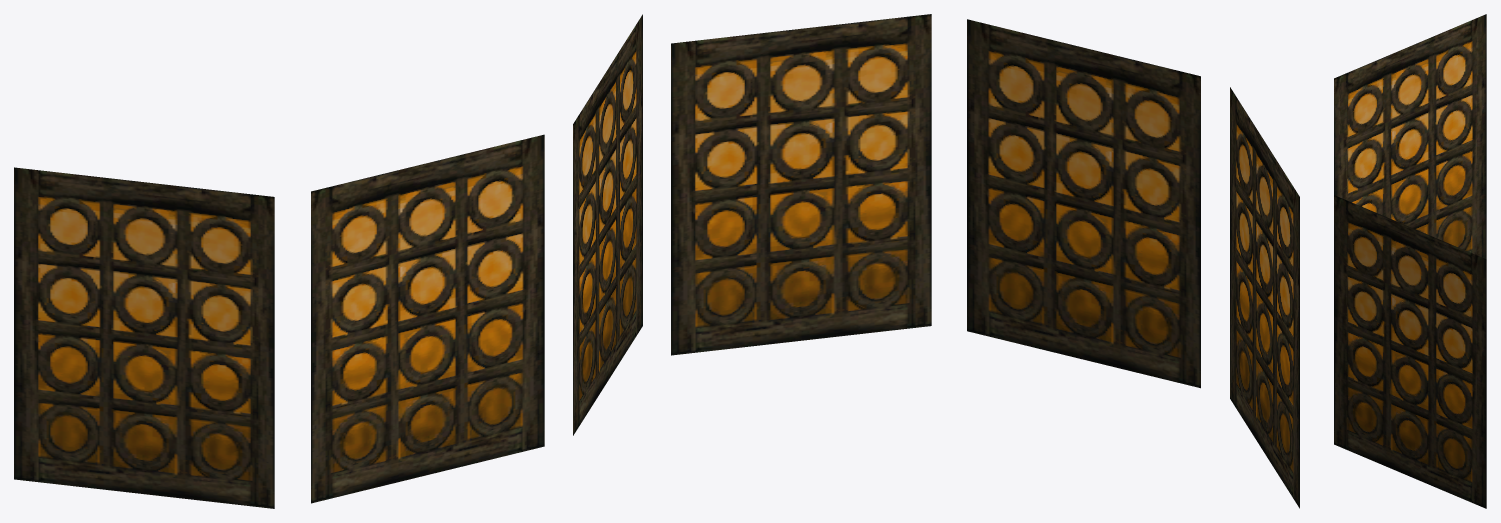
The model's file is LAKETOWN_EXTERIOR_PS_LT_WINDOWS2807.fbx.
3 renders of one model, left to right at view 1: azimuth 30°, elevation 25°; view 2: azimuth 150°, elevation 25°; view 3: azimuth 270°, elevation 25°, orthographic. The views are drawn at different scales.
Parts seen in each view (by area): view 1: LAKETOWN_EXTERIOR_PS_LT_WINDOWS2807; view 2: LAKETOWN_EXTERIOR_PS_LT_WINDOWS2807; view 3: LAKETOWN_EXTERIOR_PS_LT_WINDOWS2807.
Boxes of the visible parts, left/top/right/bottom form: LAKETOWN_EXTERIOR_PS_LT_WINDOWS2807: left=14, top=14, right=642, bottom=508; LAKETOWN_EXTERIOR_PS_LT_WINDOWS2807: left=671, top=14, right=1299, bottom=508; LAKETOWN_EXTERIOR_PS_LT_WINDOWS2807: left=1334, top=14, right=1486, bottom=508.
Bounding box in the file's own units: 28220 × 13379 × 7687.
1 material, 1 textured.
